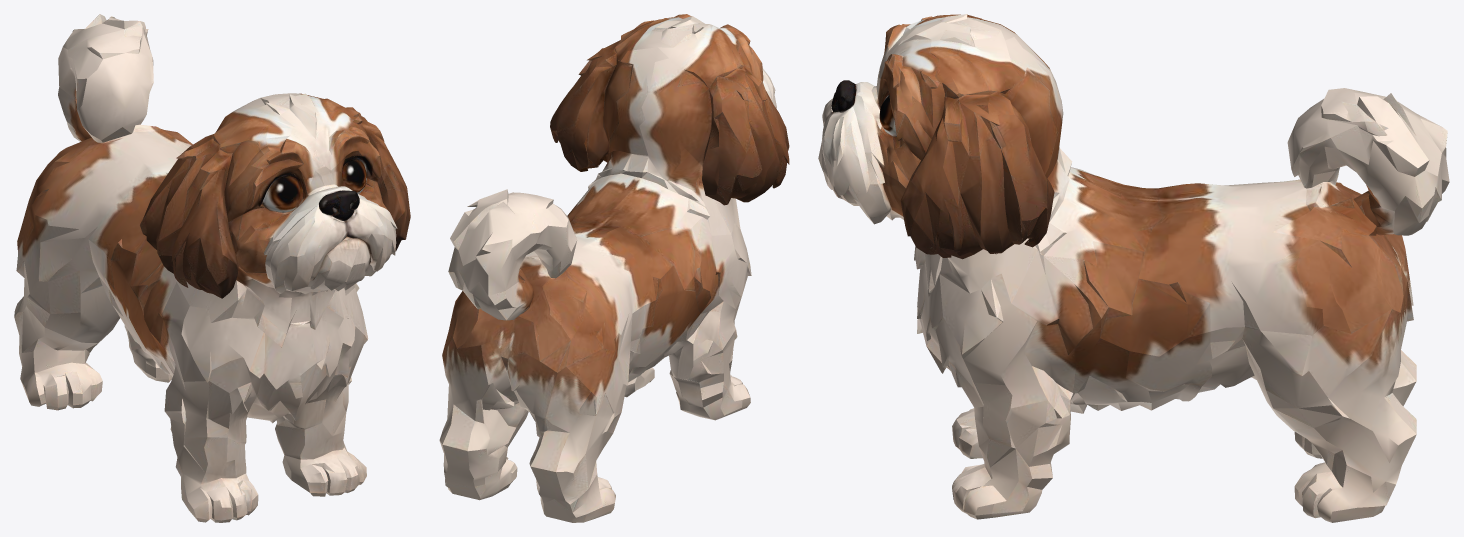
The model's file is shih-tzu.glb.
3 renders of one model, left to right at view 1: azimuth 30°, elevation 25°; view 2: azimuth 150°, elevation 25°; view 3: azimuth 270°, elevation 25°, orthographic. The views are drawn at different scales.
Bounding box in the file's own units: 0.929 × 1.5 × 1.9.
Materials: 1 (1 with a texture image).
